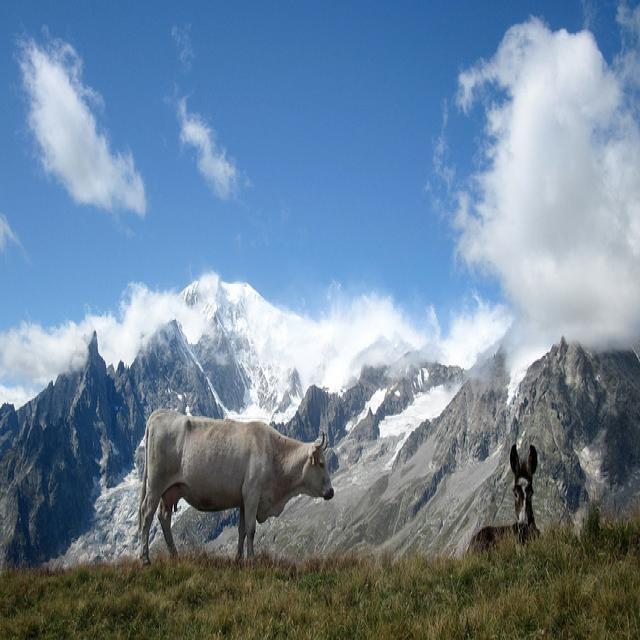cow: (137, 400, 332, 559)
